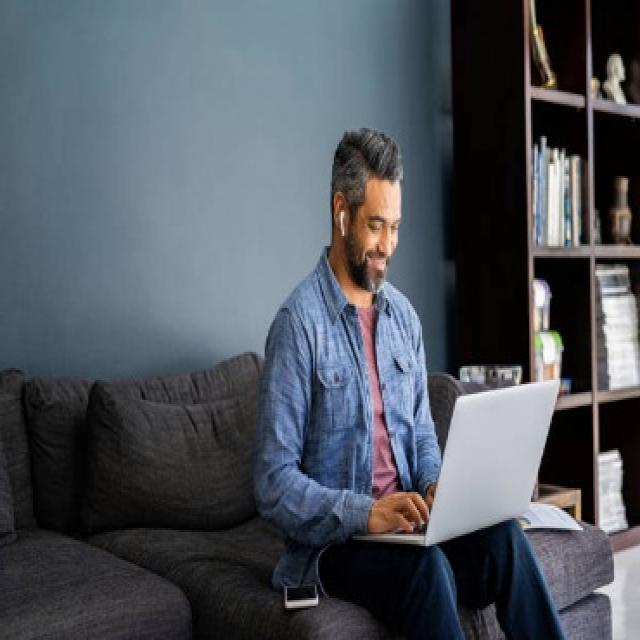adult: (261, 125, 545, 638)
